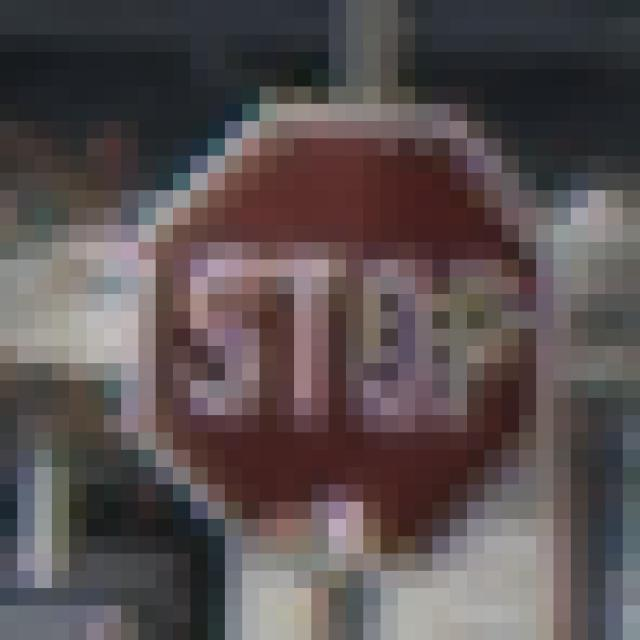STOP: (105, 88, 554, 555)
